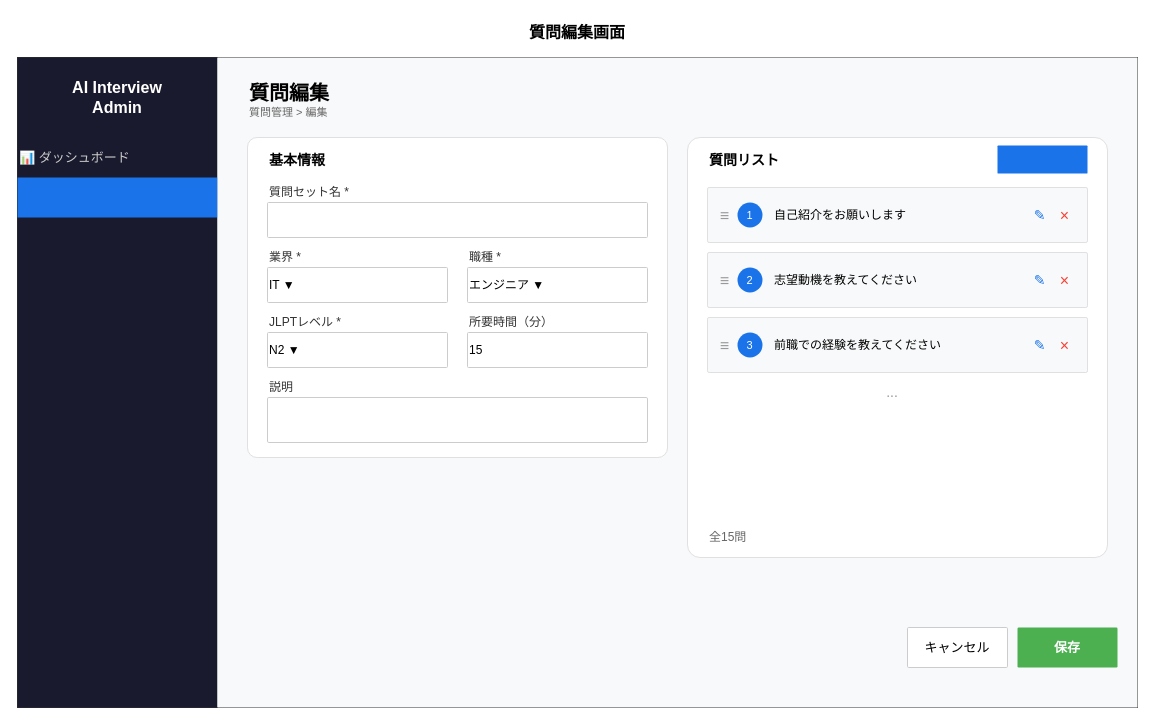
Some shapes in this 1155 by 725 pixel diagram are drawn without their labels. The centre of each missing label's shape, as x and y in pixels:
"+ 質問追加" goes at (x=1042, y=159).
"IT企業の新卒採用向け基本的な面接質問セット" goes at (x=457, y=419).
"IT企業向け基本面接" goes at (x=457, y=220).
"📝 質問管理" goes at (x=117, y=197).
